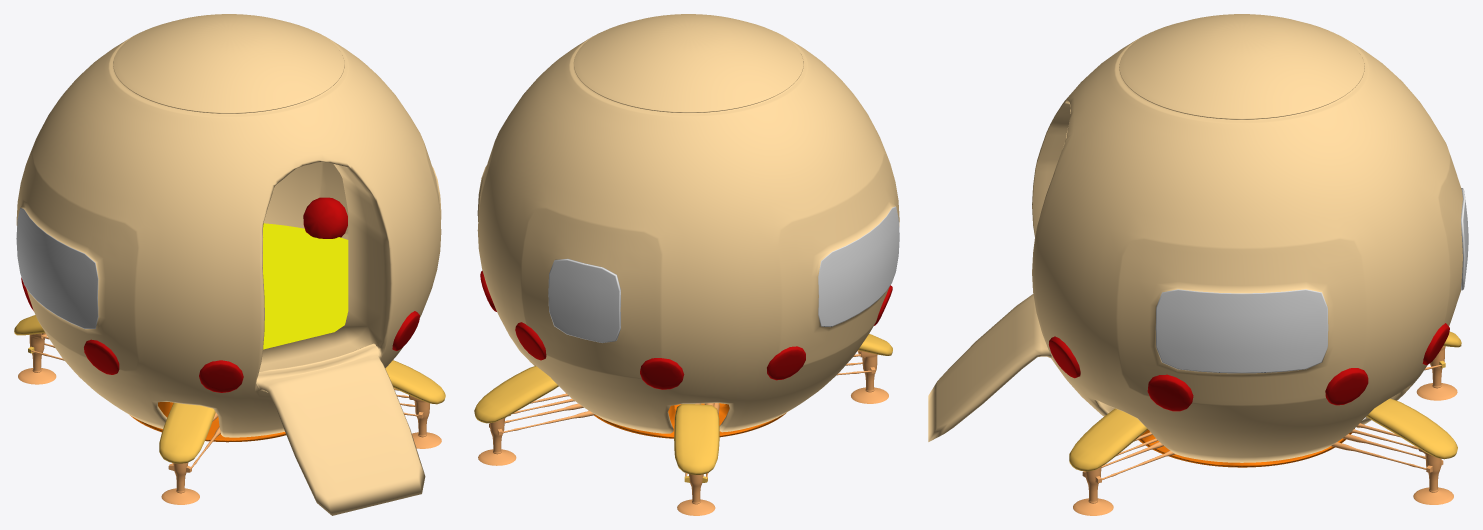
File: Capsule_Ship.fbx
The picture shows the model from 3 angles, left to right: view 1: azimuth 30°, elevation 25°; view 2: azimuth 150°, elevation 25°; view 3: azimuth 270°, elevation 25°; orthographic projection. The views are drawn at different scales.
Parts seen in each view (by area): view 1: Spaceship; view 2: Spaceship; view 3: Spaceship.
Part boxes in pixels (x1,y1,x2,y2): Spaceship: (14,14,445,515); Spaceship: (474,14,899,515); Spaceship: (928,14,1468,515).
Size of the model in its own units: 4 by 3.99 by 4.77.
